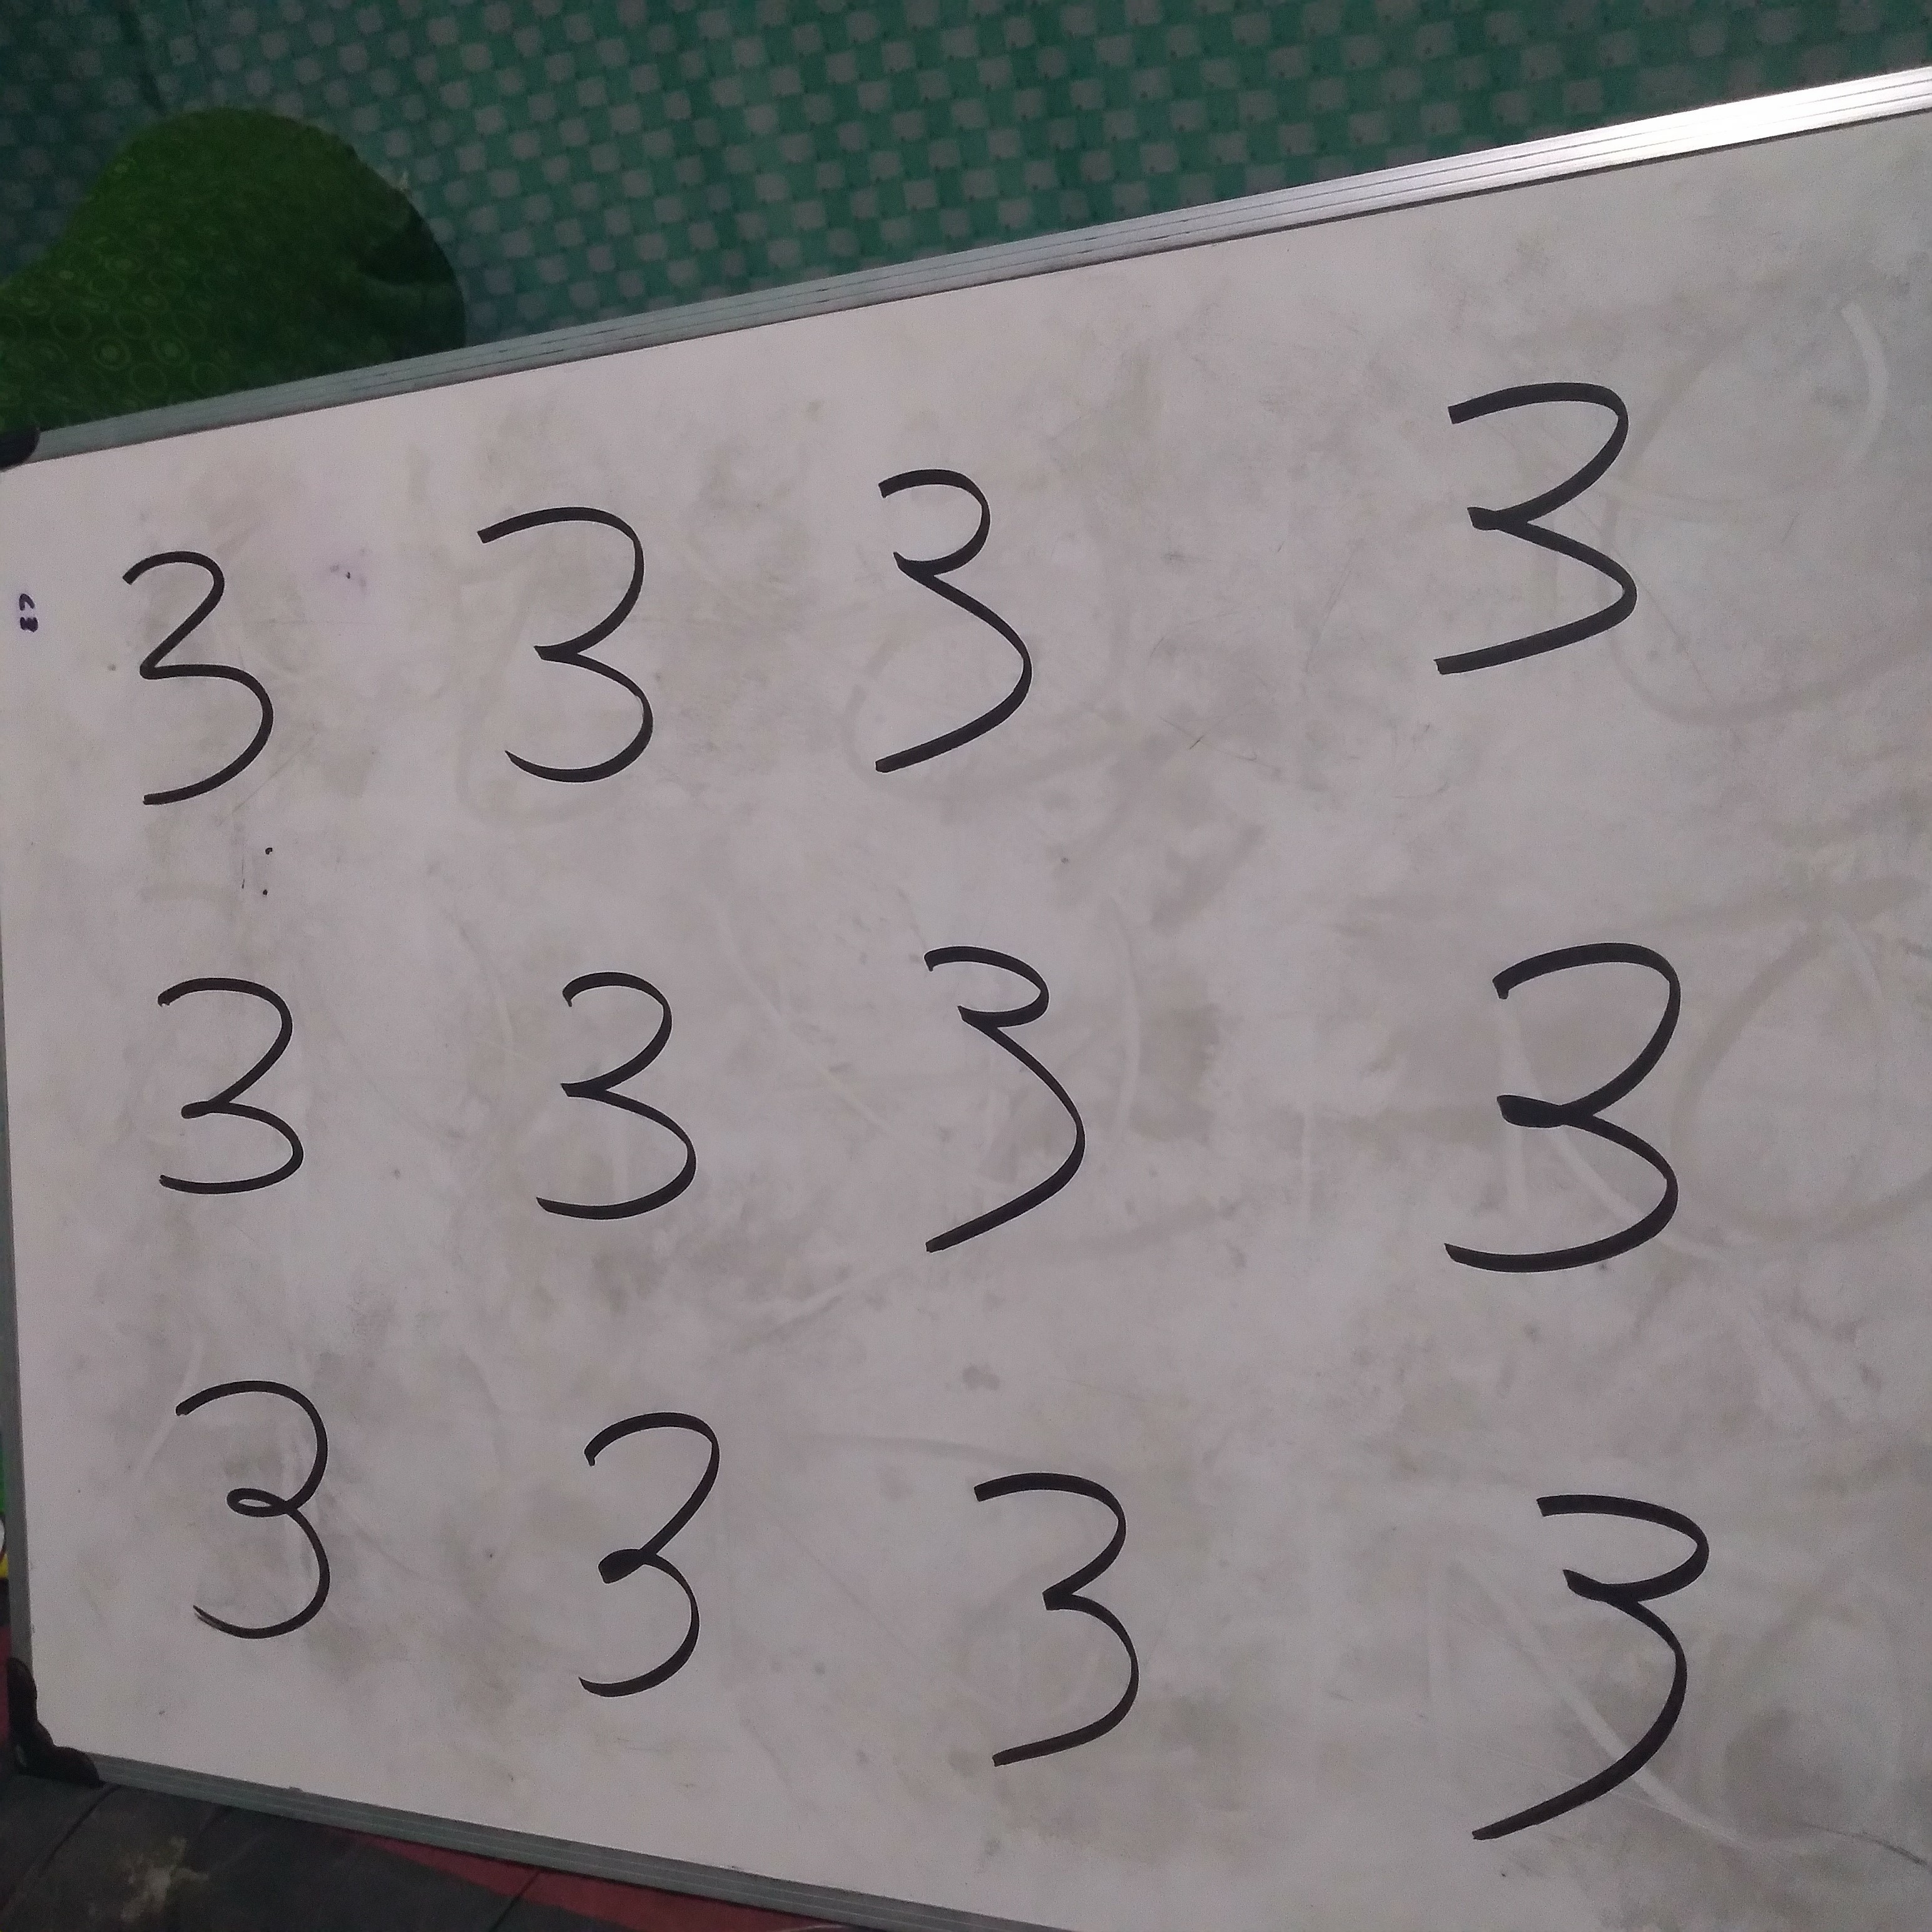num3: (1476, 1464, 1724, 1838), (1447, 916, 1696, 1290), (161, 1350, 385, 1675), (847, 447, 1070, 771), (892, 928, 1116, 1253), (124, 922, 348, 1246), (510, 962, 734, 1287), (460, 482, 684, 807), (943, 1458, 1167, 1782), (1424, 352, 1648, 677), (95, 534, 319, 858), (551, 1385, 775, 1710)
